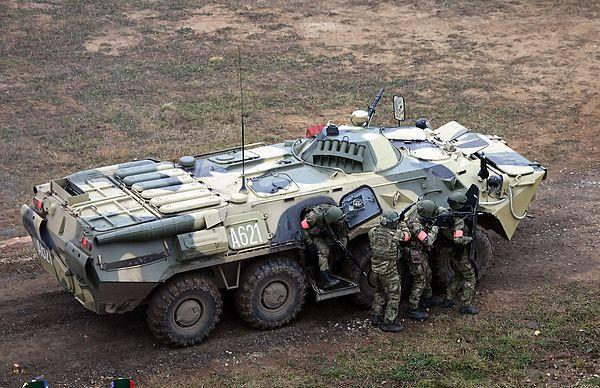person: (369, 202, 412, 338), (303, 194, 358, 299), (404, 196, 444, 325), (442, 186, 482, 312)
tank: (21, 103, 561, 340)
